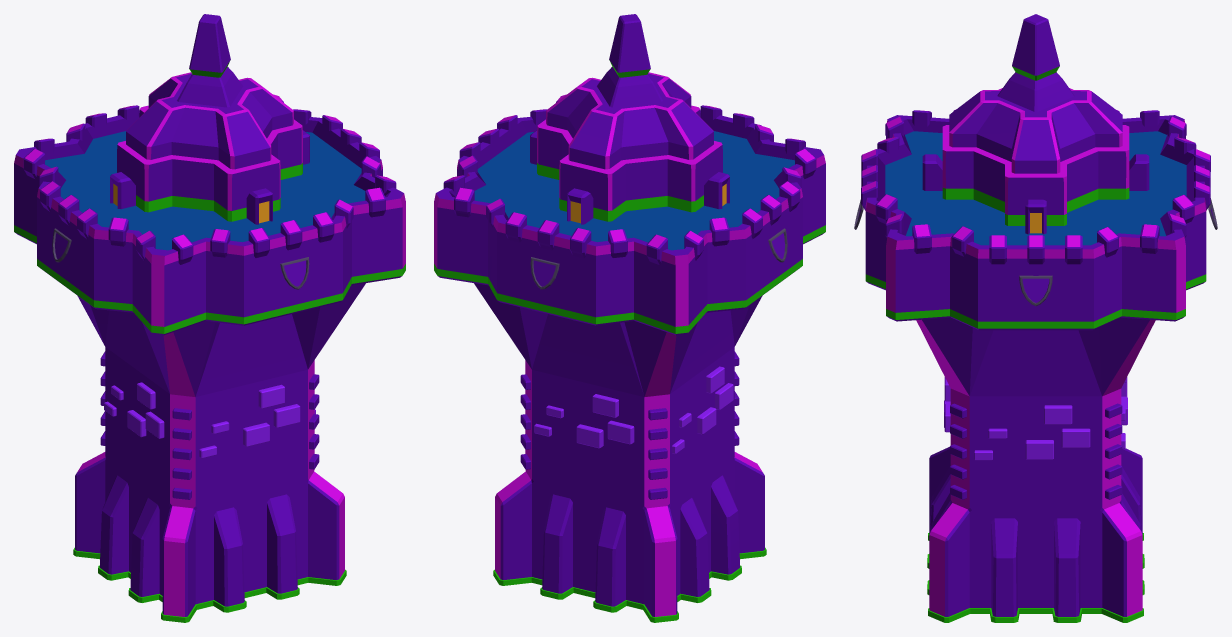
The model's file is Tower3.fbx.
The picture shows the model from 3 angles, left to right: view 1: azimuth 30°, elevation 25°; view 2: azimuth 150°, elevation 25°; view 3: azimuth 270°, elevation 25°; orthographic projection. The views are drawn at different scales.
Parts seen in each view (by area): view 1: Tower3_LOD0; view 2: Tower3_LOD0; view 3: Tower3_LOD0.
Part boxes in pixels (x1,y1,x2,y2): Tower3_LOD0: (14,14,405,622); Tower3_LOD0: (434,14,825,622); Tower3_LOD0: (854,14,1217,622).
Size of what is drawn, in the model's own units: 2680 by 4543 by 2680.
